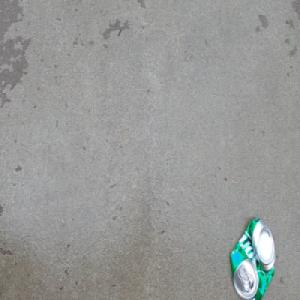SodaCan: (228, 215, 276, 300)
